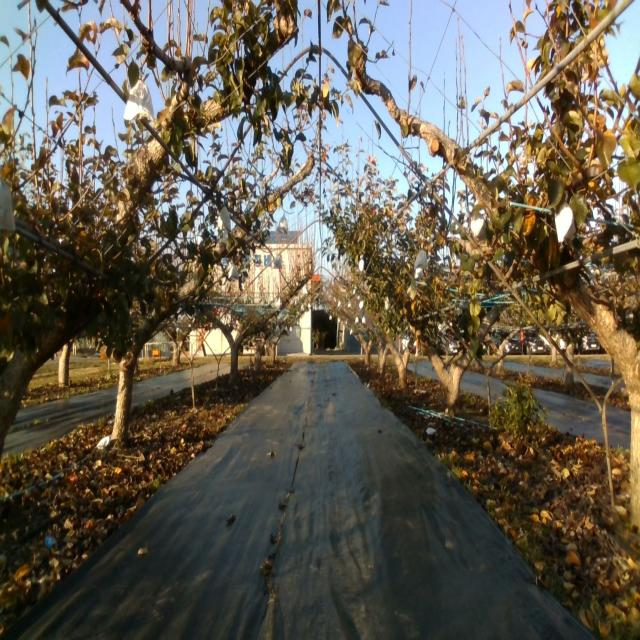pearbags: (123, 78, 156, 130), (554, 200, 574, 243), (216, 206, 232, 232), (471, 211, 485, 240), (275, 213, 289, 234), (414, 249, 428, 270)
